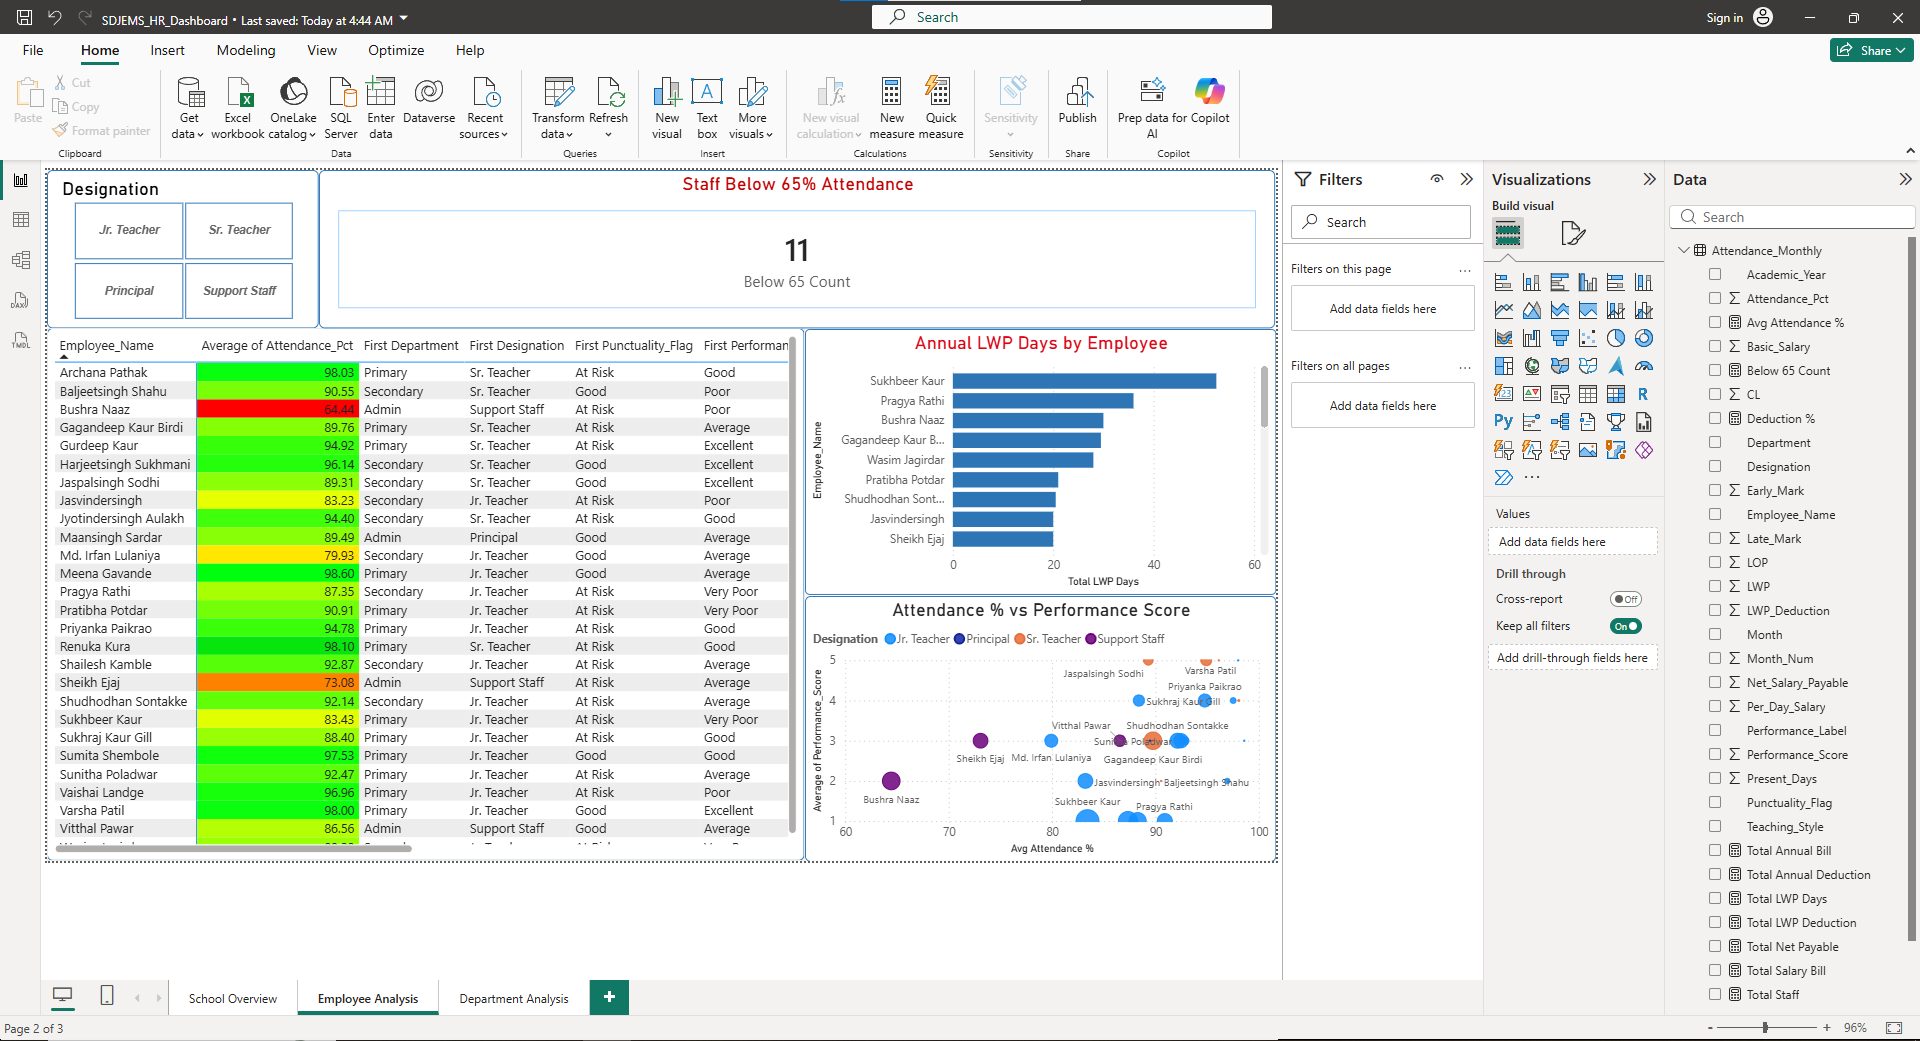

What the dashboard file says about the page in this screenshot:
{"tool":"powerbi","page":{"name":"Employee Analysis","canvas":[1280,720],"ordinal":1},"visuals":[{"type":"slicer","fields":{"Values":["Attendance_Monthly.Designation"]},"box":[0,0,283.4,165.5],"z":0},{"type":"pivotTable","fields":{"Rows":["Attendance_Monthly.Employee_Name"],"Values":["Avg(Attendance_Monthly.Attendance_Pct)","Min(Attendance_Monthly.Department)","Min(Attendance_Monthly.Designation)","Min(Attendance_Monthly.Punctuality_Flag)","Min(Attendance_Monthly.Performance_Label)","Sum(Attendance_Monthly.LWP)","Sum(Attendance_Monthly.LWP_Deduction)","Sum(Attendance_Monthly.Net_Salary_Payable)","Avg(Attendance_Monthly.Performance_Score)"]},"box":[0,164.9,789.3,555],"z":1000},{"type":"clusteredBarChart","title":"Annual LWP Days by Employee","fields":{"Category":["Attendance_Monthly.Employee_Name"],"Y":["Attendance_Monthly.Total LWP Days"]},"box":[789.3,165.9,490.7,276.5],"z":2000},{"type":"scatterChart","title":"Attendance % vs Performance Score","fields":{"X":["Attendance_Monthly.Avg Attendance %"],"Y":["Avg(Attendance_Monthly.Performance_Score)"],"Series":["Attendance_Monthly.Designation"],"Size":["Attendance_Monthly.Total LWP Days"],"Category":["Attendance_Monthly.Employee_Name"]},"box":[789.3,443.4,490.7,276.5],"z":3000},{"type":"cardVisual","title":"Staff Below 65% Attendance","fields":{"Data":["Attendance_Monthly.Below 75 Count"]},"box":[283.6,0,996.4,164.9],"z":4000}]}

Visuals, with their boxes on the page's 1280x720 design canvas (x1, y1, x2, y2). These are canvas units, not pixel positions in the 1920x1041 screenshot, which may show the page scaled, cropped or inside an application window:
slicer - Attendance_Monthly.Designation: locate(0, 0, 283, 166)
pivotTable - Attendance_Monthly.Employee_Name x Avg(Attendance_Monthly.Attendance_Pct): locate(0, 165, 789, 720)
"Annual LWP Days by Employee" clusteredBarChart: locate(789, 166, 1280, 442)
"Attendance % vs Performance Score" scatterChart: locate(789, 443, 1280, 720)
"Staff Below 65% Attendance" cardVisual: locate(284, 0, 1280, 165)
